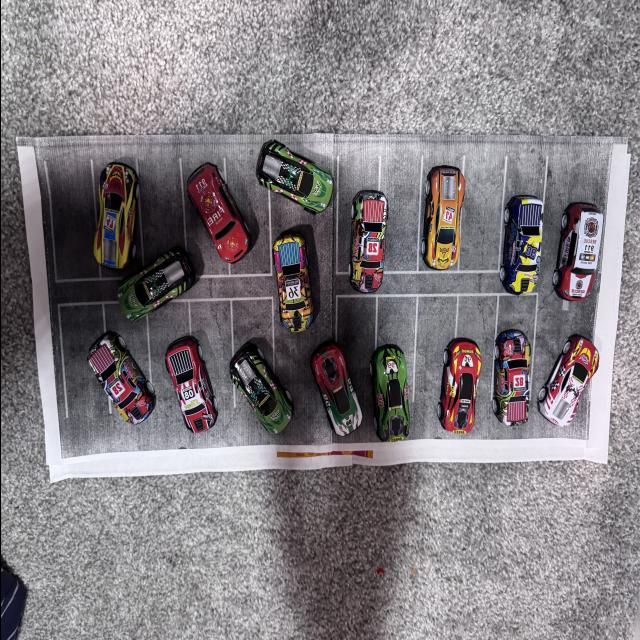Car: (240, 78, 356, 244), (180, 112, 266, 274), (106, 210, 215, 330), (237, 303, 304, 487), (352, 316, 428, 477), (69, 298, 150, 446), (155, 325, 221, 471), (259, 212, 325, 348), (305, 344, 376, 460), (435, 127, 471, 316), (434, 315, 484, 443), (89, 152, 131, 292), (487, 324, 531, 448), (561, 214, 609, 316), (366, 201, 404, 315), (543, 355, 597, 435), (502, 176, 541, 284)
